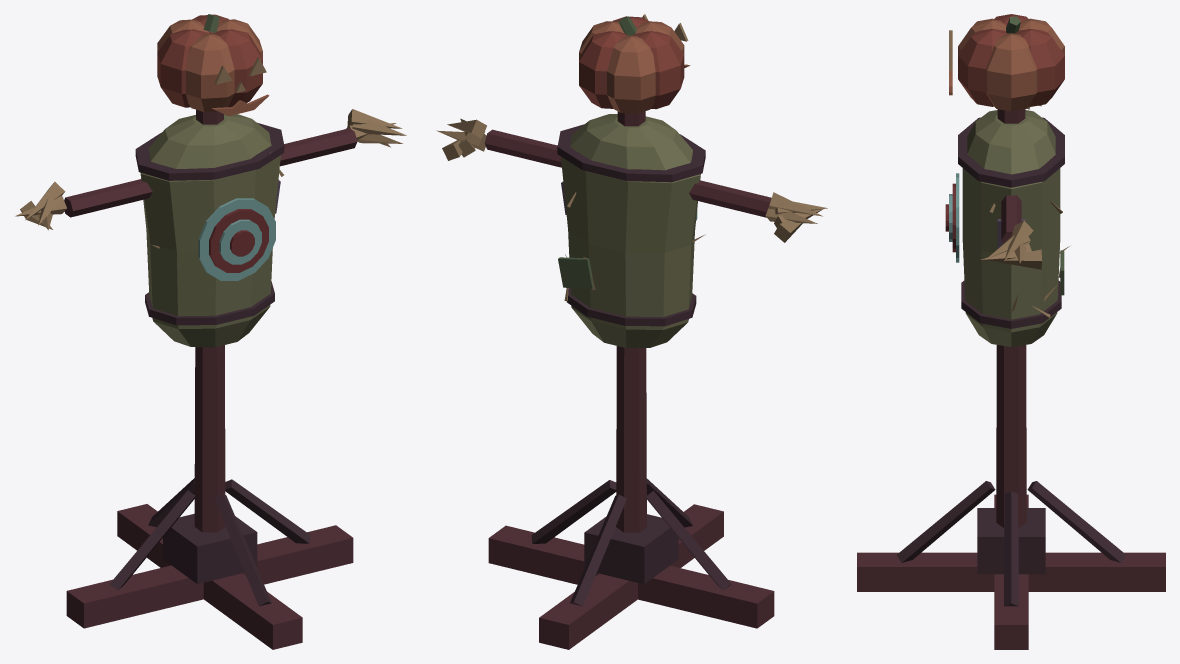
The model's file is manechin.glb.
The picture shows the model from 3 angles, left to right: view 1: azimuth 30°, elevation 25°; view 2: azimuth 150°, elevation 25°; view 3: azimuth 270°, elevation 25°; orthographic projection.
Visible parts, largest first — view 1: Corp, Baza, Lumini; view 2: Corp, Baza; view 3: Corp, Baza.
Part boxes in pixels (x1,y1,x2,y2): Corp: [15, 14, 406, 532]; Baza: [66, 478, 353, 649]; Lumini: [212, 57, 269, 115]; Corp: [436, 16, 827, 532]; Baza: [488, 478, 774, 649]; Corp: [945, 14, 1069, 527]; Baza: [857, 481, 1165, 649].
Bounding box in the file's own units: 1.28 × 1.83 × 0.9.
